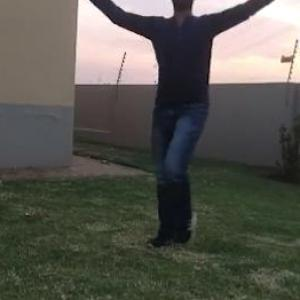takeoff: (69, 0, 299, 251)
